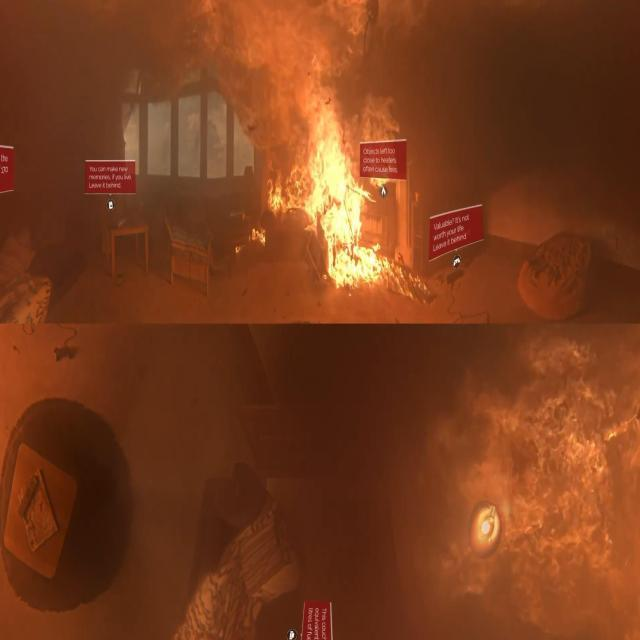smoke: (500, 338, 640, 640), (262, 96, 428, 307), (249, 220, 268, 248), (235, 244, 242, 254)
